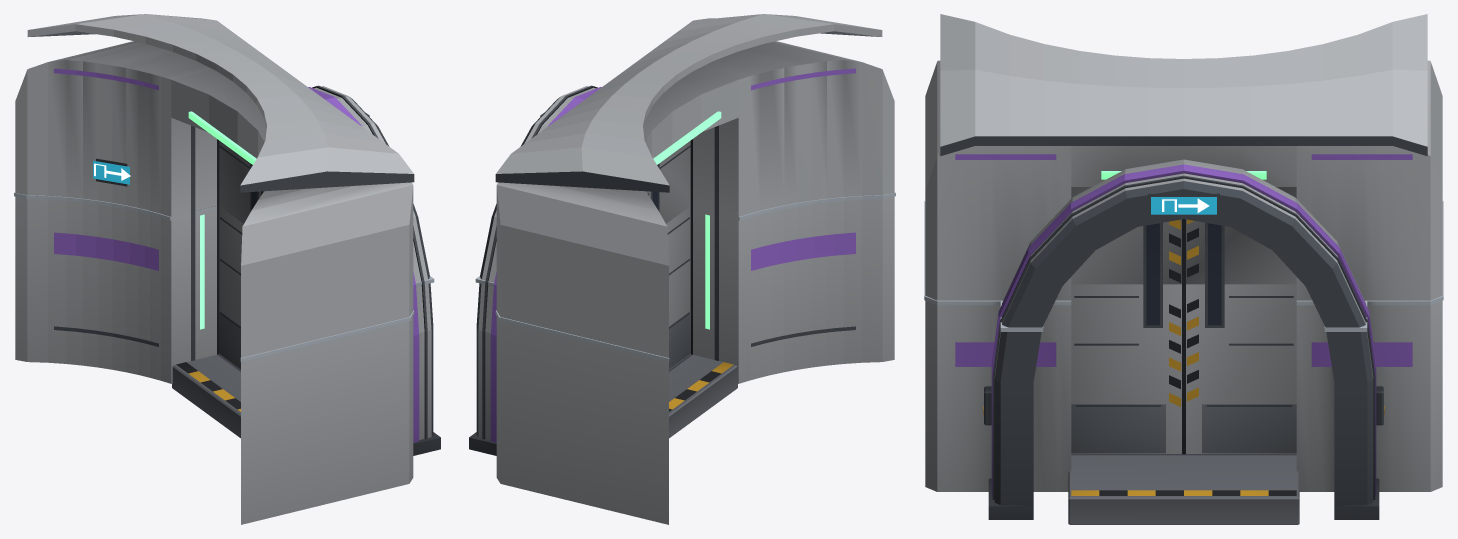
File: doorway_r250.glb
The picture shows the model from 3 angles, left to right: view 1: azimuth 30°, elevation 25°; view 2: azimuth 150°, elevation 25°; view 3: azimuth 270°, elevation 25°; orthographic projection. The views are drawn at different scales.
Visible parts, largest first — view 1: FrameTop, Frame, DoorR, DoorRTop, FrameCap, Sign, Status, Lights; view 2: FrameTop, Frame, DoorL, DoorLTop, FrameCap, Status, Lights; view 3: FrameTop, Frame, DoorL, DoorR, DoorLTop, DoorRTop, FrameCap, Sign.
Part boxes in pixels (bbox=[...]): FrameTop: bbox=[15, 14, 429, 357]; Frame: bbox=[15, 196, 440, 524]; DoorR: bbox=[219, 206, 243, 369]; DoorRTop: bbox=[219, 141, 263, 223]; FrameCap: bbox=[14, 192, 434, 361]; Sign: bbox=[93, 113, 369, 186]; Status: bbox=[188, 111, 256, 164]; Lights: bbox=[200, 214, 204, 329]; FrameTop: bbox=[480, 14, 894, 357]; Frame: bbox=[469, 196, 894, 524]; DoorL: bbox=[666, 206, 690, 369]; DoorLTop: bbox=[646, 141, 690, 223]; FrameCap: bbox=[475, 192, 895, 361]; Status: bbox=[653, 111, 721, 164]; Lights: bbox=[705, 214, 709, 329]; FrameTop: bbox=[925, 14, 1442, 327]; Frame: bbox=[925, 300, 1442, 524]; DoorL: bbox=[1071, 284, 1183, 454]; DoorR: bbox=[1184, 284, 1296, 454]; DoorLTop: bbox=[1071, 187, 1183, 284]; DoorRTop: bbox=[1184, 187, 1296, 284]; FrameCap: bbox=[924, 201, 1443, 331]; Sign: bbox=[1148, 193, 1219, 217].
Size of the model in its own units: 2.01 by 2.93 by 3.46.
